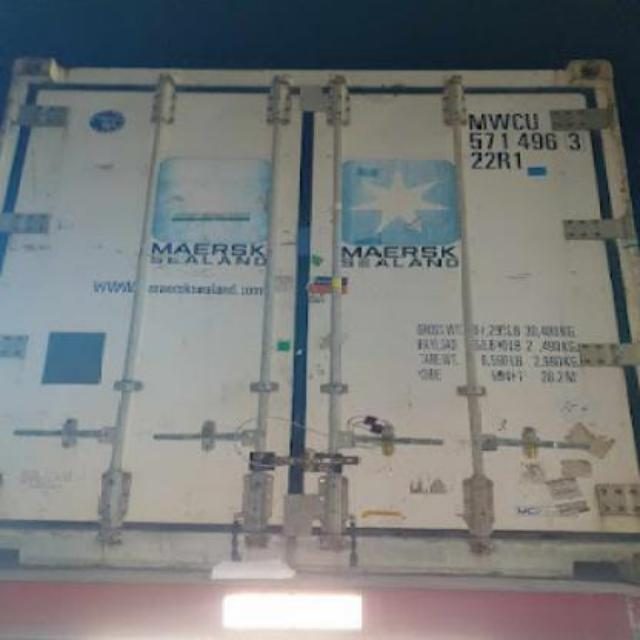1: (498, 130, 510, 150)
3: (566, 132, 584, 152)
4: (516, 132, 532, 150)
5: (468, 132, 484, 150)
6: (544, 132, 560, 152)
7: (484, 132, 498, 152)
9: (530, 132, 546, 152)
C: (510, 113, 526, 131)
M: (468, 112, 489, 132)
U: (524, 111, 540, 131)
W: (488, 113, 512, 131)
